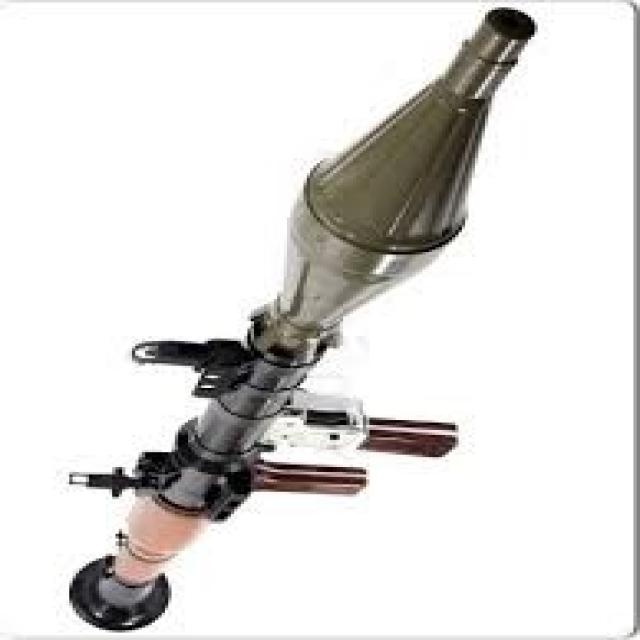bazooka: (41, 3, 551, 640)
